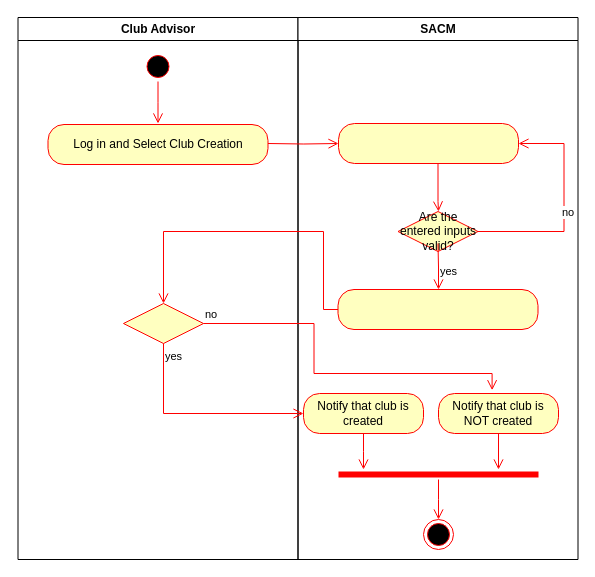
This 595x577 diagram has some shape labels left out. The shapes that lost their labels are listed below. From the top down, each one's centre as x and y in pixels, then its label:
At (428,143): "Provide options on initiating and providing data".
At (163,323): "Confirmed".
At (437,309): "Request confirmation to create a club".
